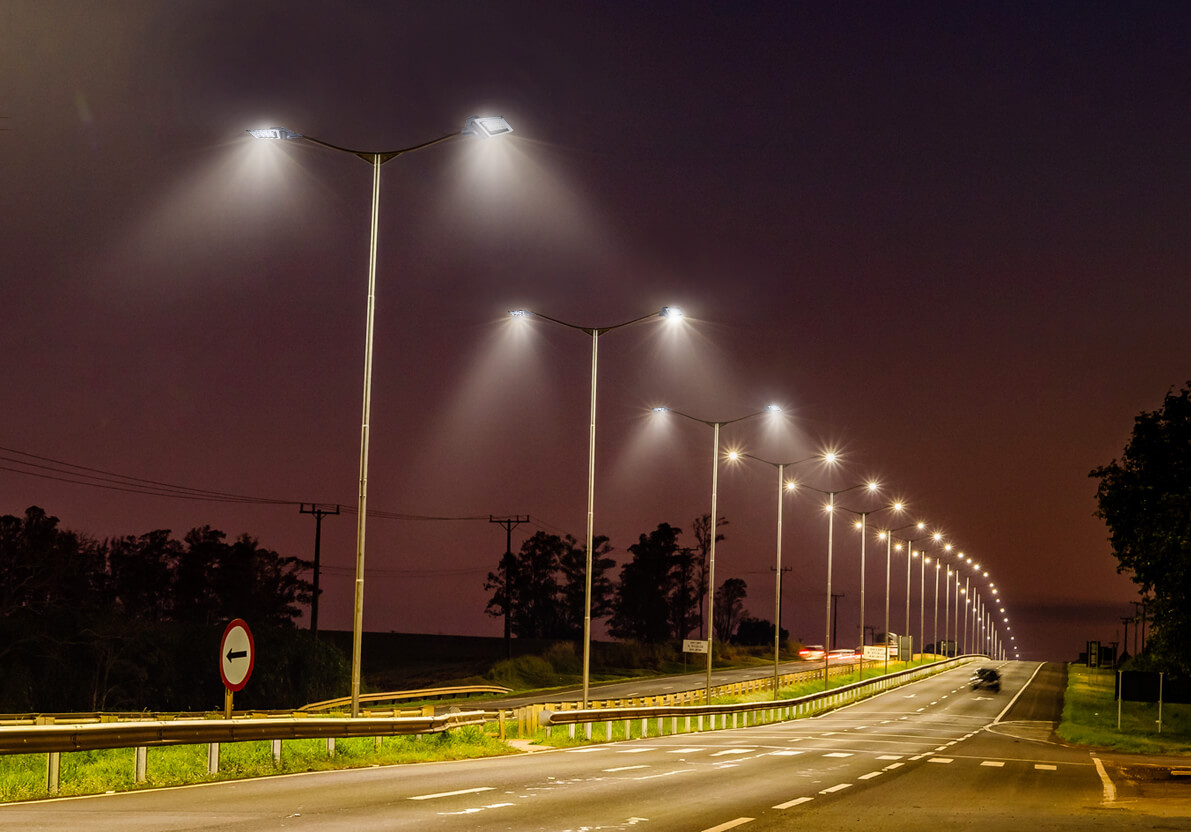Lamp: (218, 98, 473, 728), (490, 276, 699, 712), (642, 389, 800, 708), (721, 437, 836, 704)
